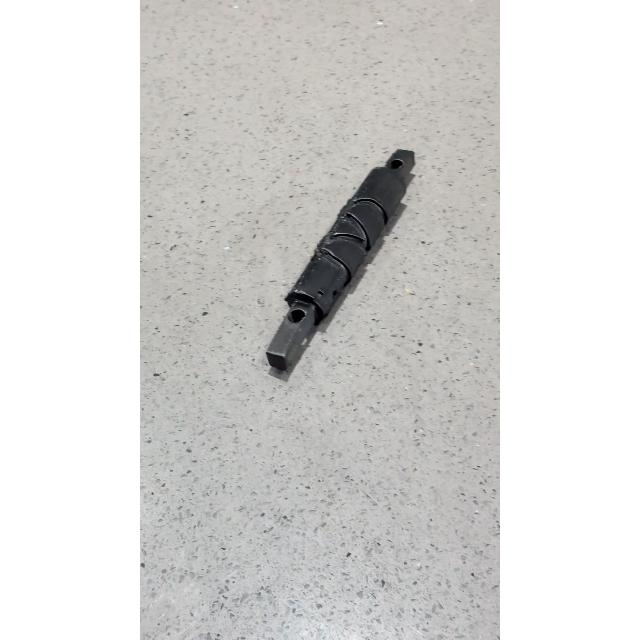Pieza_1: (256, 126, 426, 392)
